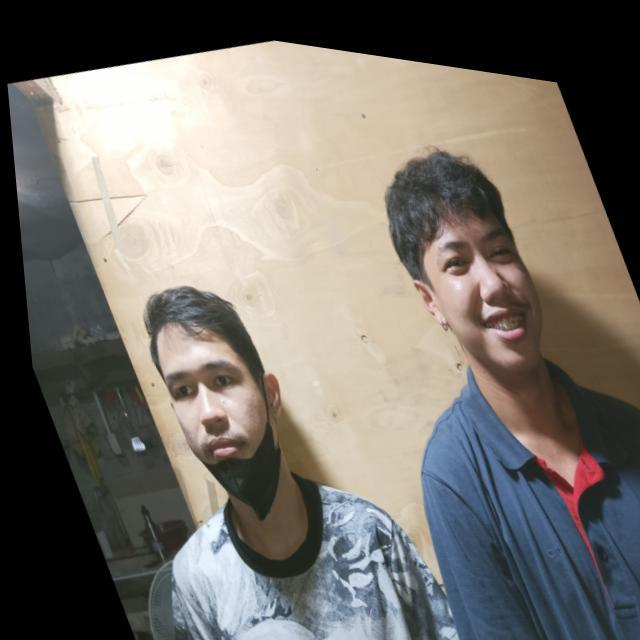Nonhelmet: (382, 147, 546, 377), (140, 283, 280, 472), (382, 147, 512, 284)
